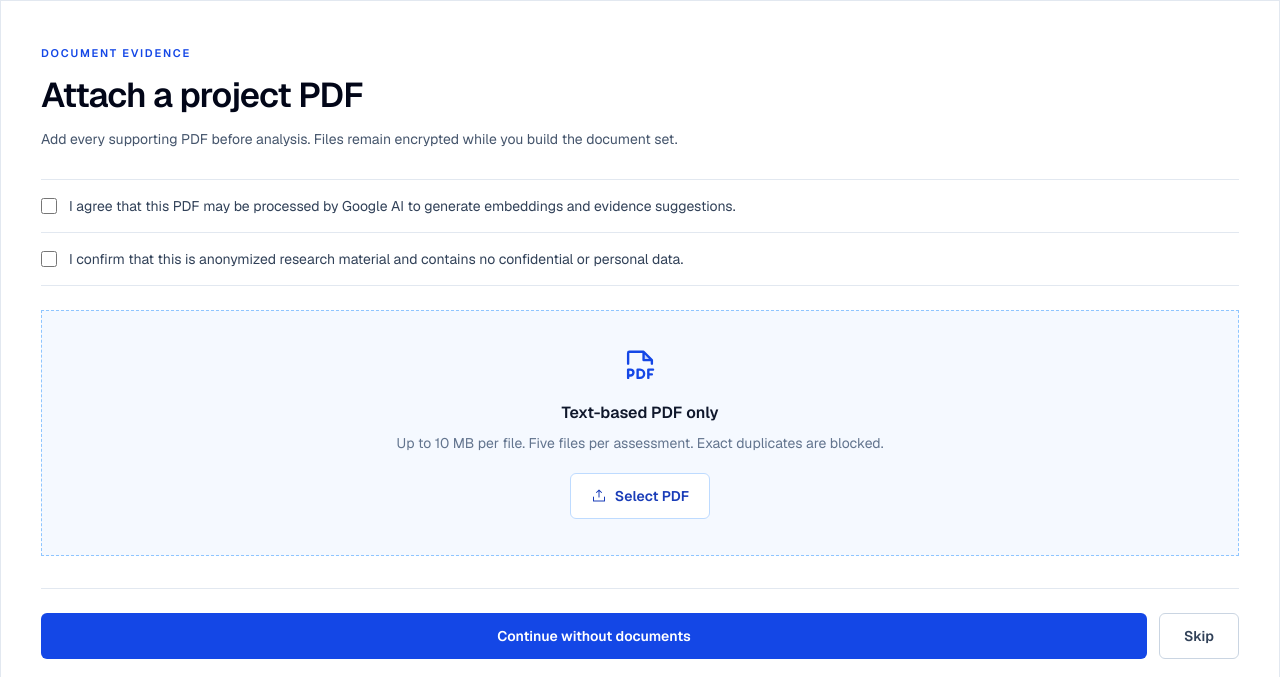
Test: DocumentUploadScreen › requires both consent statements before opening file selection
Expected: the heading "Attach a project PDF" is shown, top-left (41, 72), bottom-right (363, 116)
Click the button "Select PDF" at (640, 496), box top-left (570, 473), bottom-right (710, 519)
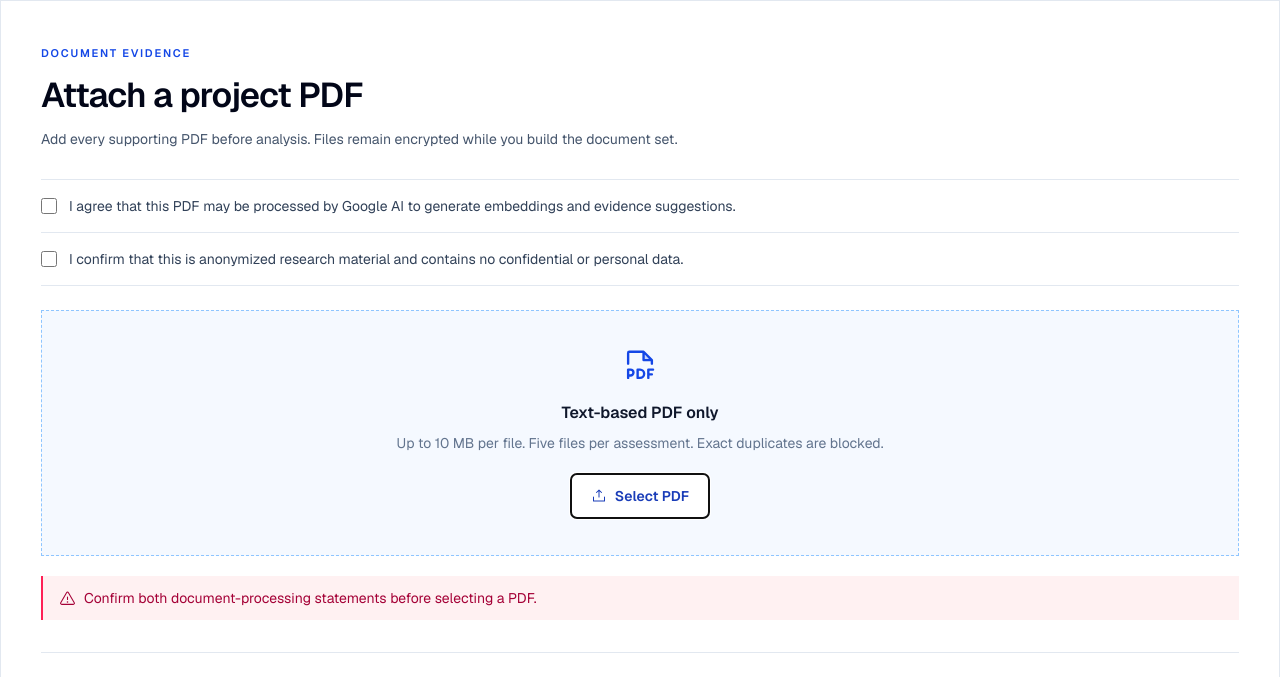
Now the text "Confirm both document-processing statements before selecting a PDF." is shown, box top-left (84, 588), bottom-right (537, 608)
